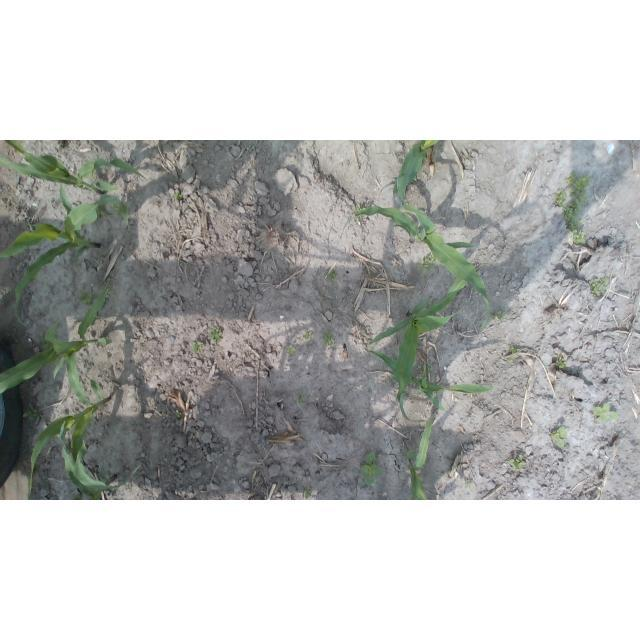Maize: (354, 183, 491, 330), (0, 184, 132, 328), (27, 350, 141, 494), (371, 277, 467, 424), (0, 276, 110, 392), (369, 349, 496, 415), (1, 143, 148, 198), (56, 420, 117, 500), (393, 140, 439, 202), (406, 417, 437, 500)
Weeds: (359, 452, 385, 486), (564, 208, 586, 245), (564, 172, 593, 197), (590, 277, 610, 298), (567, 195, 588, 213), (551, 426, 567, 449), (418, 254, 437, 273), (594, 404, 616, 420), (76, 293, 97, 308), (507, 455, 525, 472), (556, 189, 568, 208), (24, 406, 39, 421), (322, 331, 335, 346), (210, 326, 221, 343), (97, 206, 110, 220), (98, 469, 111, 480), (421, 363, 431, 377), (556, 357, 567, 369), (494, 311, 506, 322), (192, 342, 204, 353), (295, 392, 305, 405), (39, 337, 49, 350), (287, 345, 298, 356), (508, 345, 520, 355), (355, 203, 366, 213), (304, 487, 313, 499), (110, 204, 121, 213), (328, 270, 336, 280), (175, 410, 183, 419), (173, 193, 183, 200), (355, 216, 364, 223), (304, 332, 312, 339), (368, 339, 373, 349), (465, 481, 472, 487), (105, 293, 110, 301), (424, 272, 429, 280), (508, 356, 513, 363), (75, 495, 80, 500), (392, 375, 396, 381), (56, 323, 60, 328)
